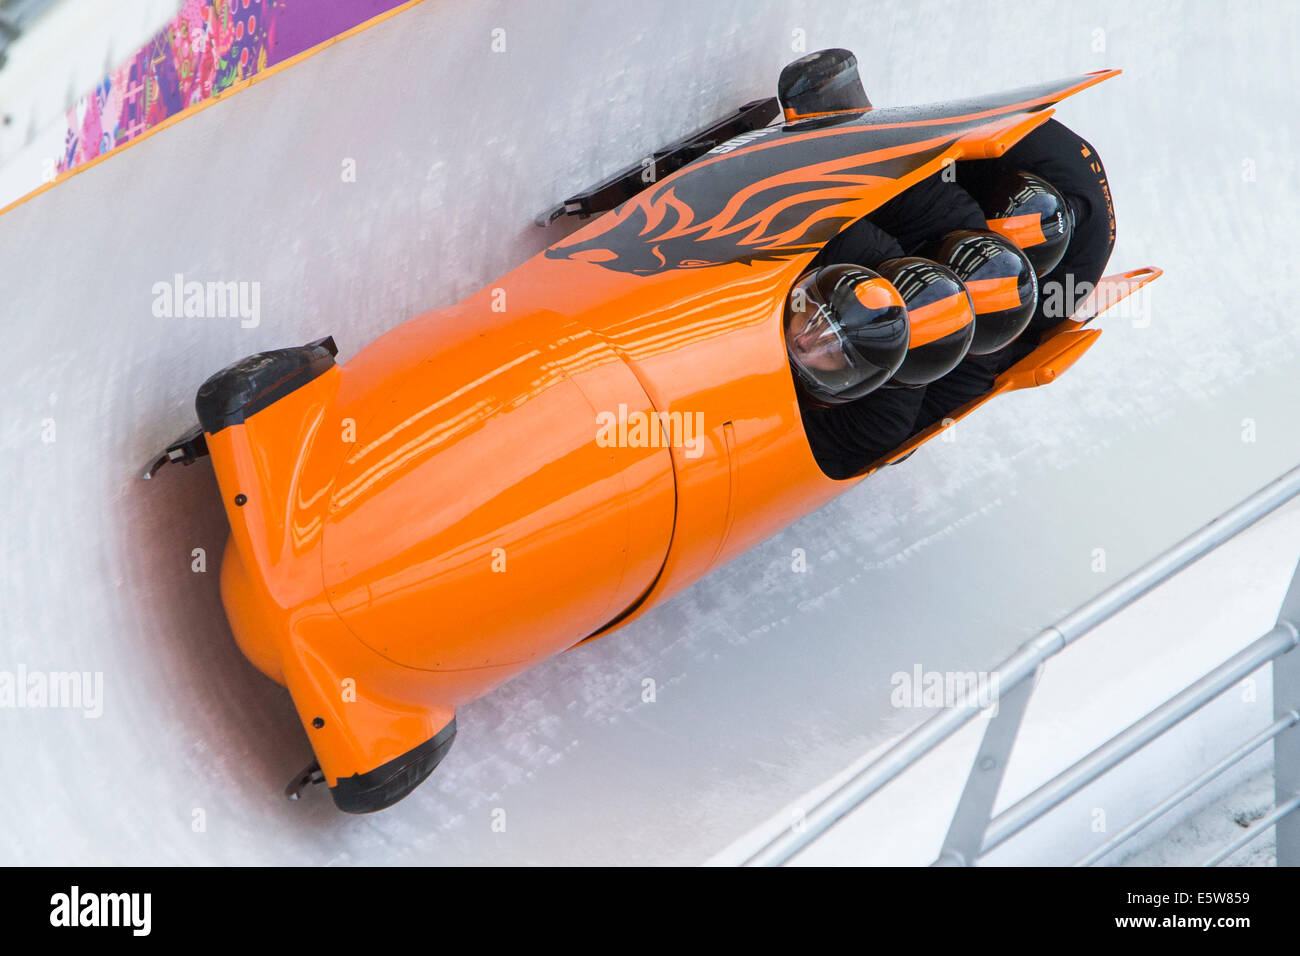Bobsleigh: (197, 55, 1153, 813)
